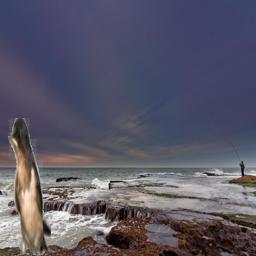Swallow: (8, 118, 51, 255)
